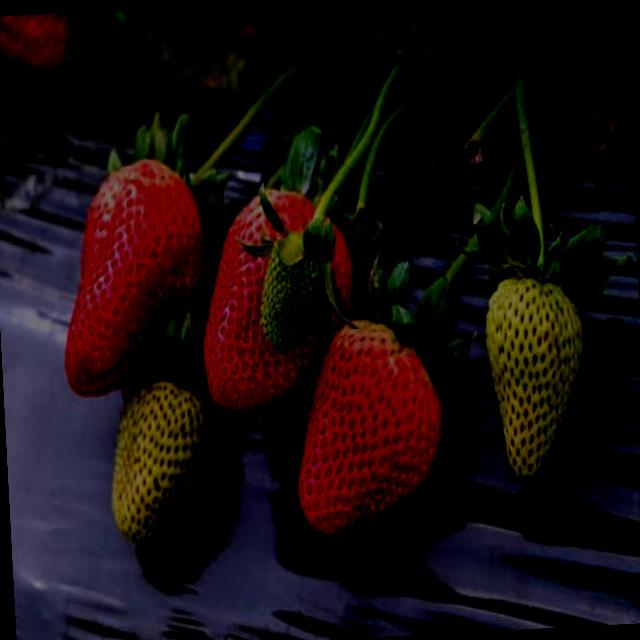Strawberry: (195, 178, 360, 416), (56, 156, 215, 394), (290, 310, 449, 534), (483, 264, 592, 486), (108, 377, 212, 539), (256, 230, 338, 346), (0, 12, 92, 81)
